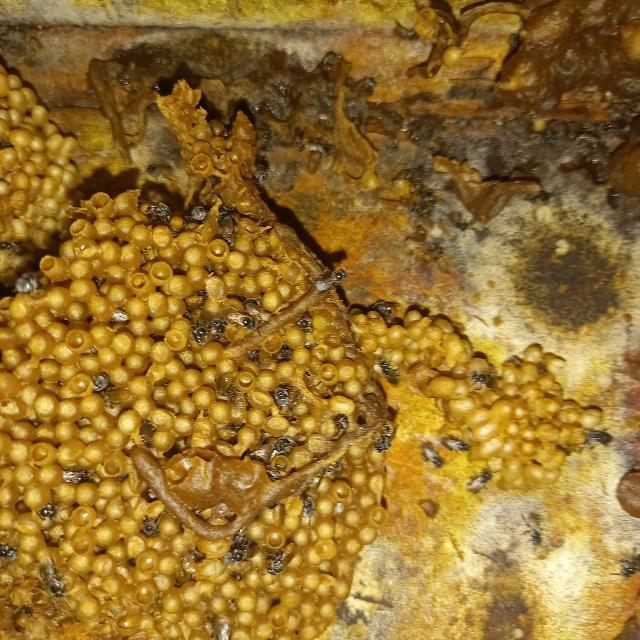honeybee: (264, 546, 296, 576), (223, 309, 256, 335), (319, 263, 344, 297), (43, 560, 63, 600), (300, 490, 320, 524), (590, 425, 618, 447), (272, 385, 293, 411), (443, 437, 469, 457), (529, 520, 547, 547), (422, 446, 442, 470), (64, 469, 96, 484), (469, 473, 489, 496), (228, 540, 247, 562), (623, 553, 640, 577), (39, 506, 70, 519), (471, 371, 493, 388), (0, 542, 15, 563)
